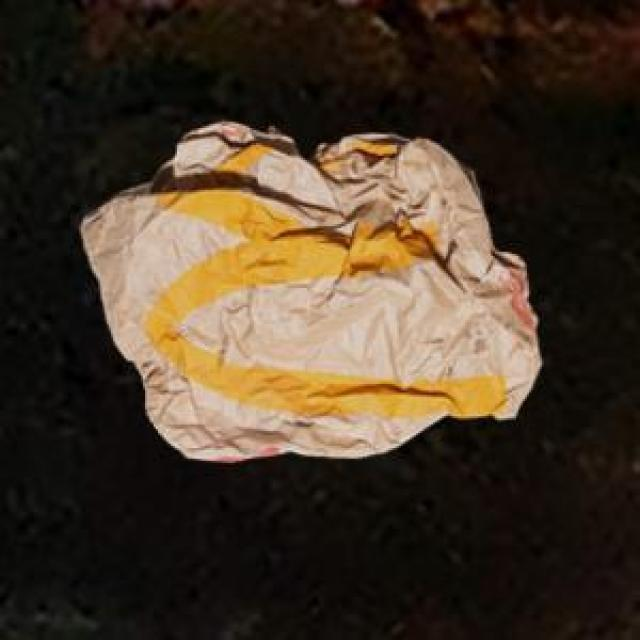paper: (77, 117, 538, 457)
